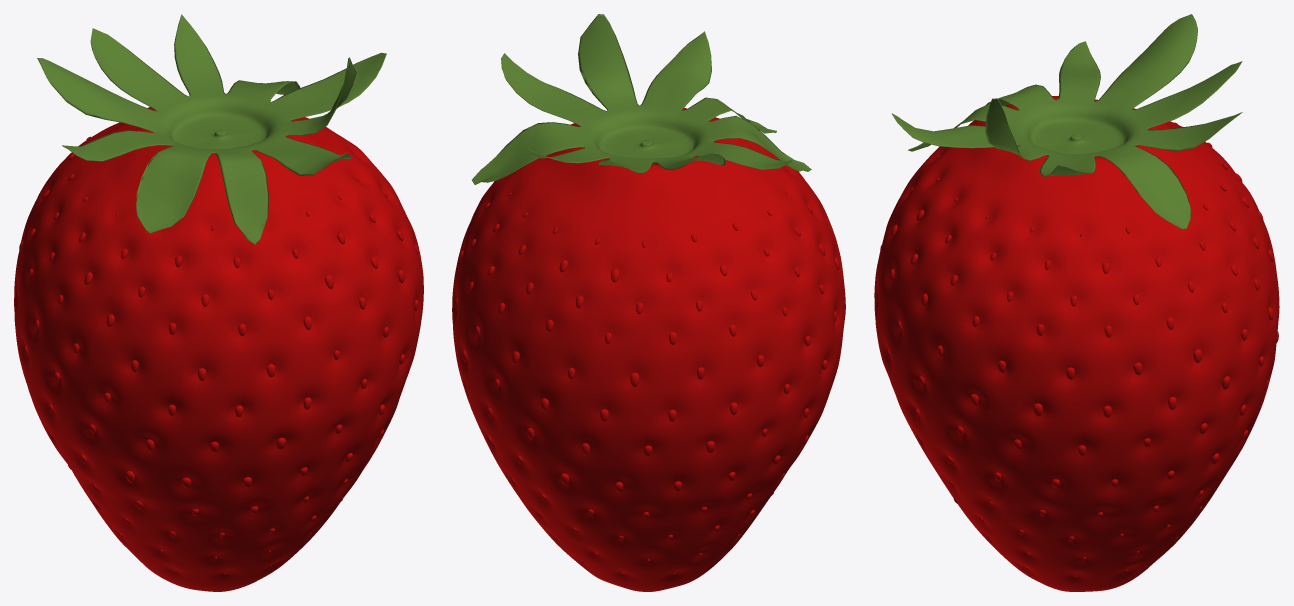
The model's file is StrawberryWhole.fbx.
3 renders of one model, left to right at view 1: azimuth 30°, elevation 25°; view 2: azimuth 150°, elevation 25°; view 3: azimuth 270°, elevation 25°, orthographic. The views are drawn at different scales.
Visible parts, largest first — view 1: strawberryBody, strawderryTail; view 2: strawberryBody, strawderryTail; view 3: strawberryBody, strawderryTail.
Part boxes in pixels (x1=…): strawberryBody: x1=14, y1=107, x2=423, y2=591; strawderryTail: x1=37, y1=14, x2=386, y2=244; strawberryBody: x1=452, y1=107, x2=845, y2=591; strawderryTail: x1=472, y1=14, x2=811, y2=184; strawberryBody: x1=874, y1=96, x2=1279, y2=591; strawderryTail: x1=892, y1=14, x2=1242, y2=229.
Bounding box in the file's own units: 3 × 4.36 × 3.
